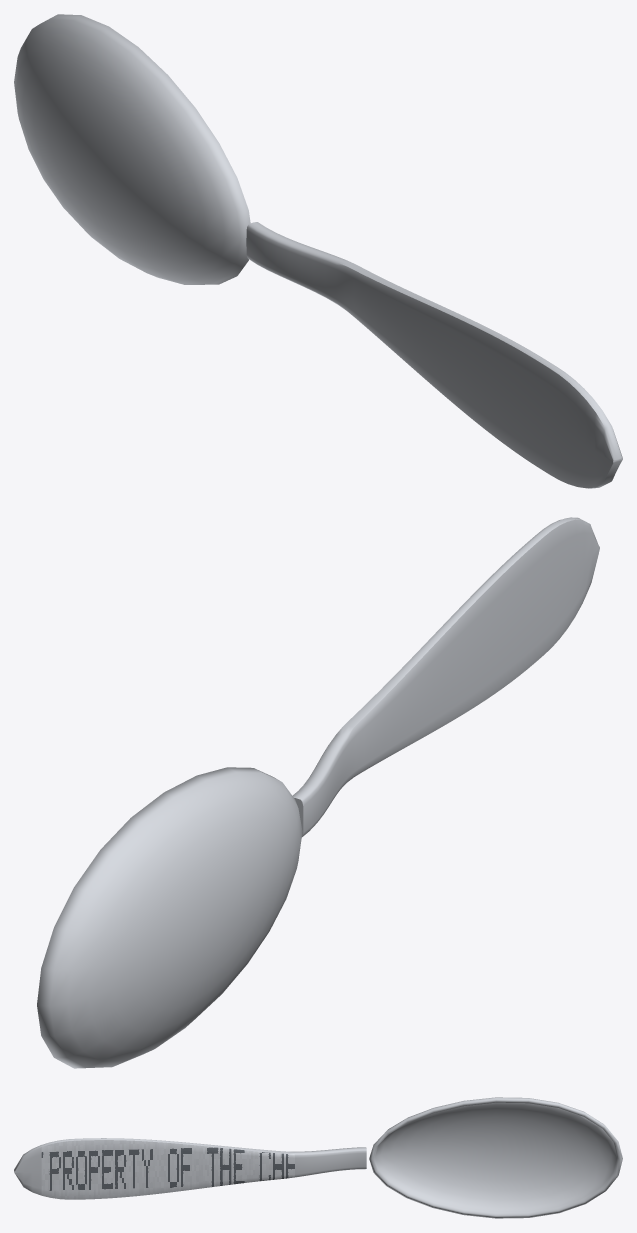
Rendered from w_knife_spoon.glb.
3 views of the same model, one above another, from view 1: azimuth 30°, elevation 25°; view 2: azimuth 150°, elevation 25°; view 3: azimuth 270°, elevation 25° (orthographic). The views are drawn at different scales.
Parts seen in each view (by area): view 1: kspoon_bowl_wzB, kspoon_handle_wzA; view 2: kspoon_bowl_wzB, kspoon_handle_wzA; view 3: kspoon_bowl_wzB, kspoon_handle_wzA.
Boxes of the visible parts, box(x1,y1,x2,y2) form: kspoon_bowl_wzB: box(14, 14, 250, 284); kspoon_handle_wzA: box(246, 222, 622, 488); kspoon_bowl_wzB: box(37, 767, 302, 1068); kspoon_handle_wzA: box(292, 517, 599, 837); kspoon_bowl_wzB: box(369, 1097, 622, 1218); kspoon_handle_wzA: box(14, 1138, 366, 1199).
Size of the model in its own units: 0.0231 by 0.0467 by 0.2151.
2 materials, 1 textured.
